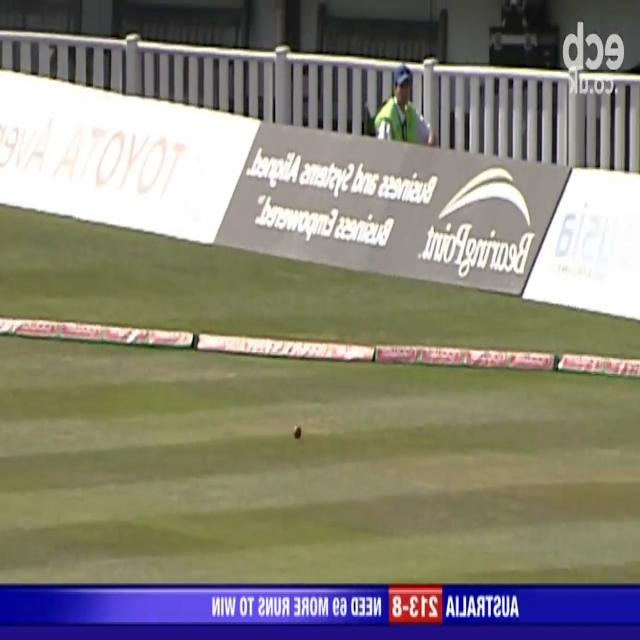ball: (291, 422, 304, 442)
